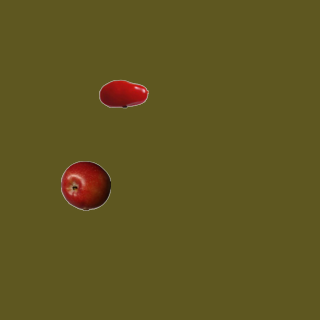Apple Braeburn: (60, 160, 110, 210)
Tomato 2: (98, 68, 148, 118)
